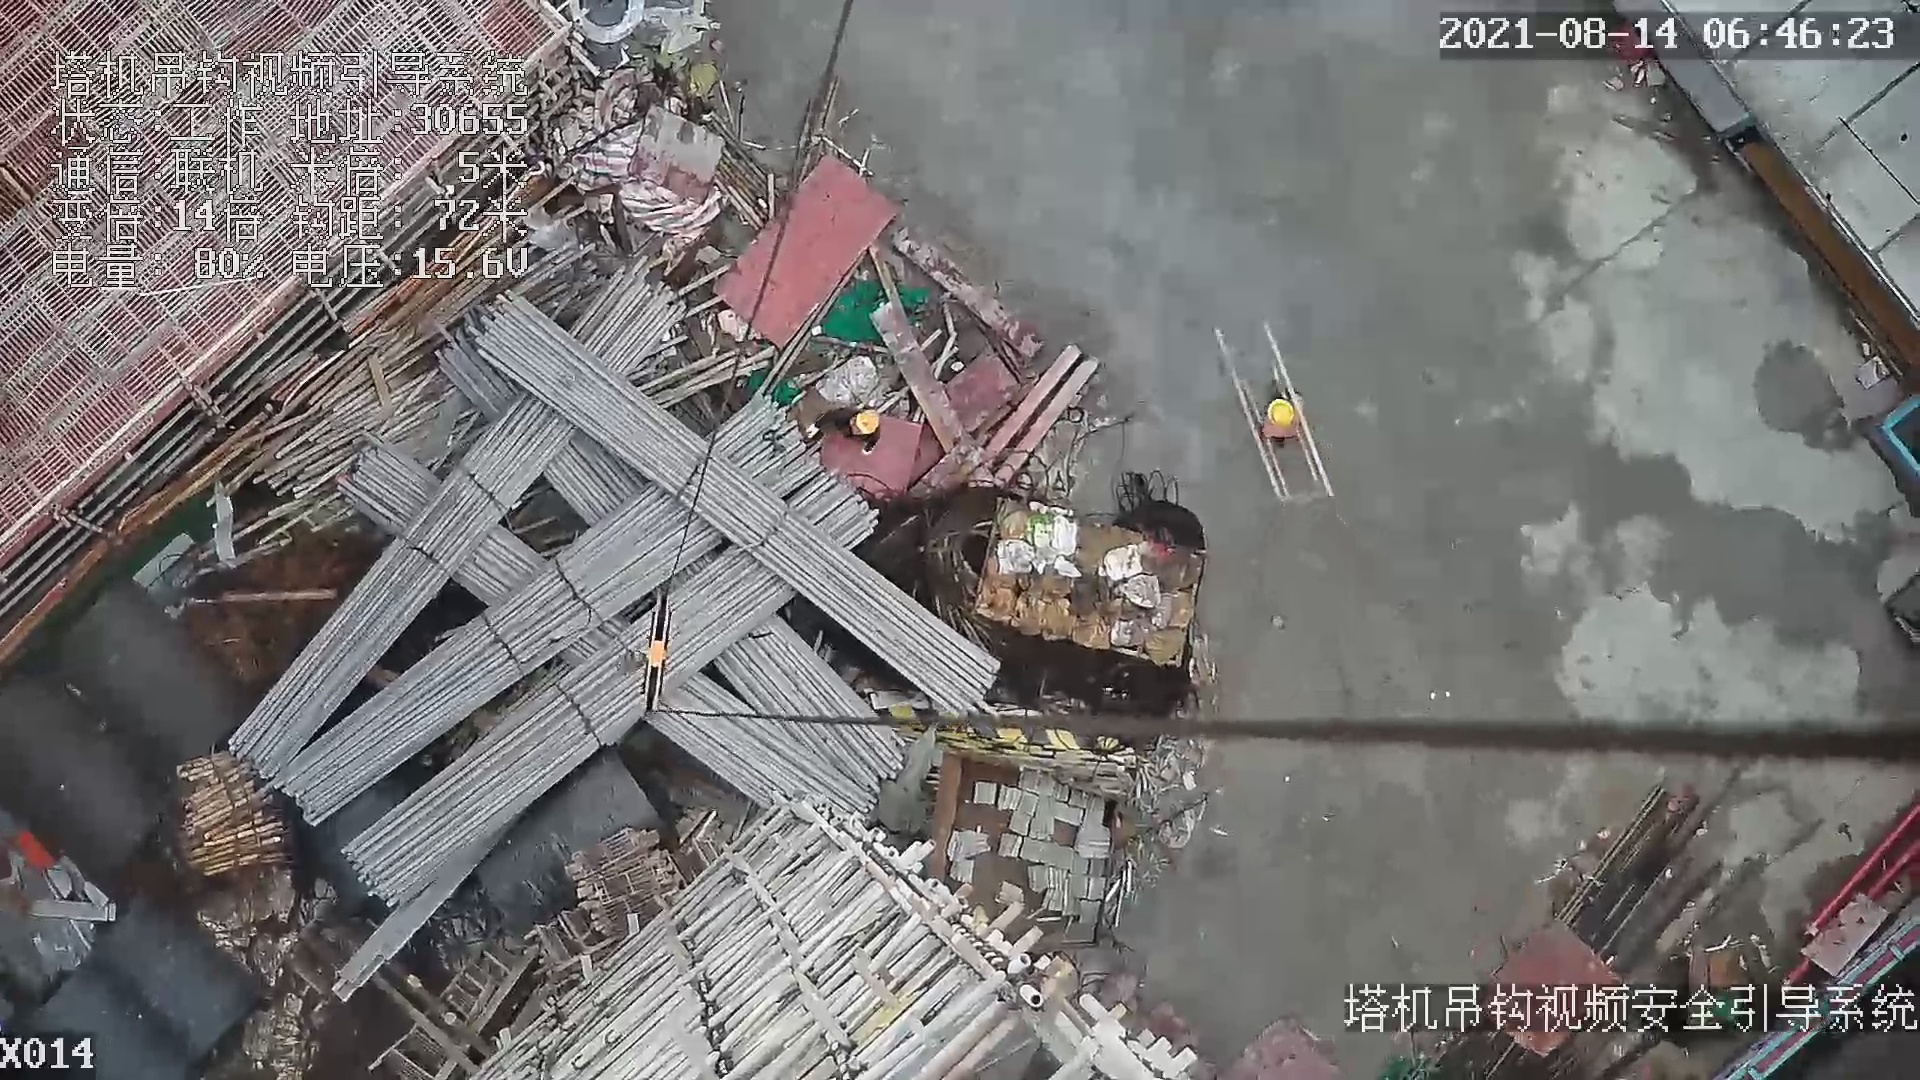board: (715, 153, 901, 348)
helmet: (854, 408, 885, 434), (1269, 397, 1292, 424)
hook: (637, 577, 683, 719)
person: (1249, 378, 1305, 455), (813, 406, 883, 467)
scaffold: (166, 758, 278, 871)
